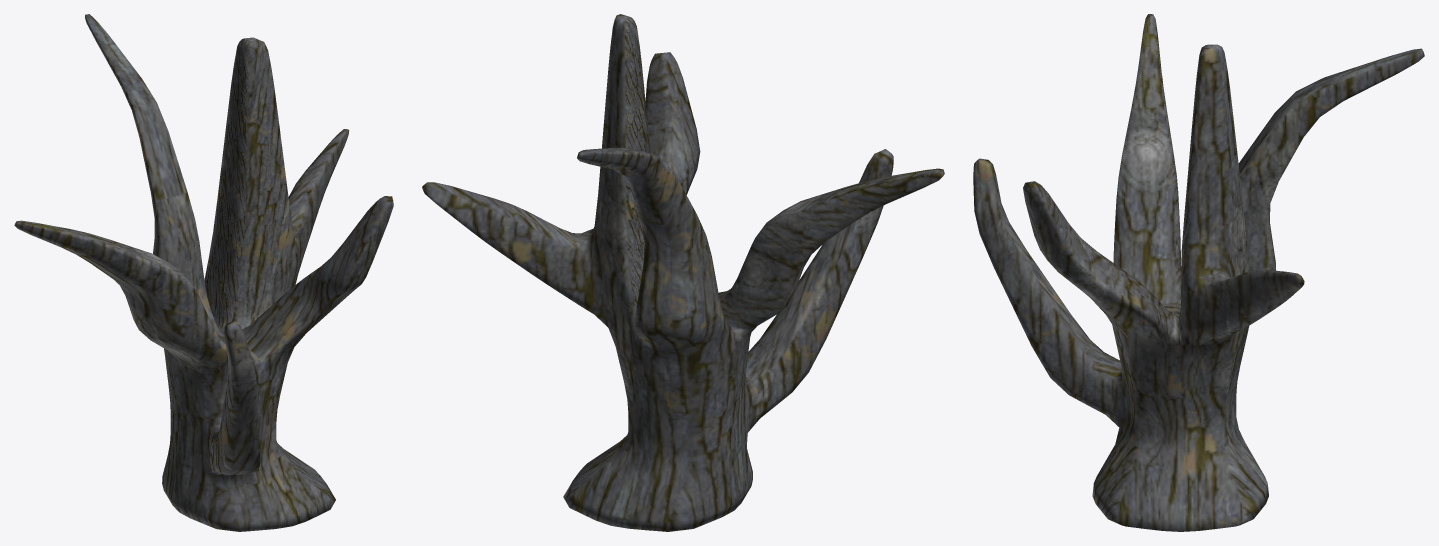
Rendered from bush2.fbx.
The picture shows the model from 3 angles, left to right: view 1: azimuth 30°, elevation 25°; view 2: azimuth 150°, elevation 25°; view 3: azimuth 270°, elevation 25°; orthographic projection. The views are drawn at different scales.
Visible parts, largest first — view 1: Brush_2; view 2: Brush_2; view 3: Brush_2.
Boxes of the visible parts, box(x1,y1,x2,y2) form: Brush_2: box(14, 14, 393, 531); Brush_2: box(422, 14, 944, 531); Brush_2: box(973, 14, 1424, 531).
Bounding box in the file's own units: 2.33 × 2.43 × 2.16.
